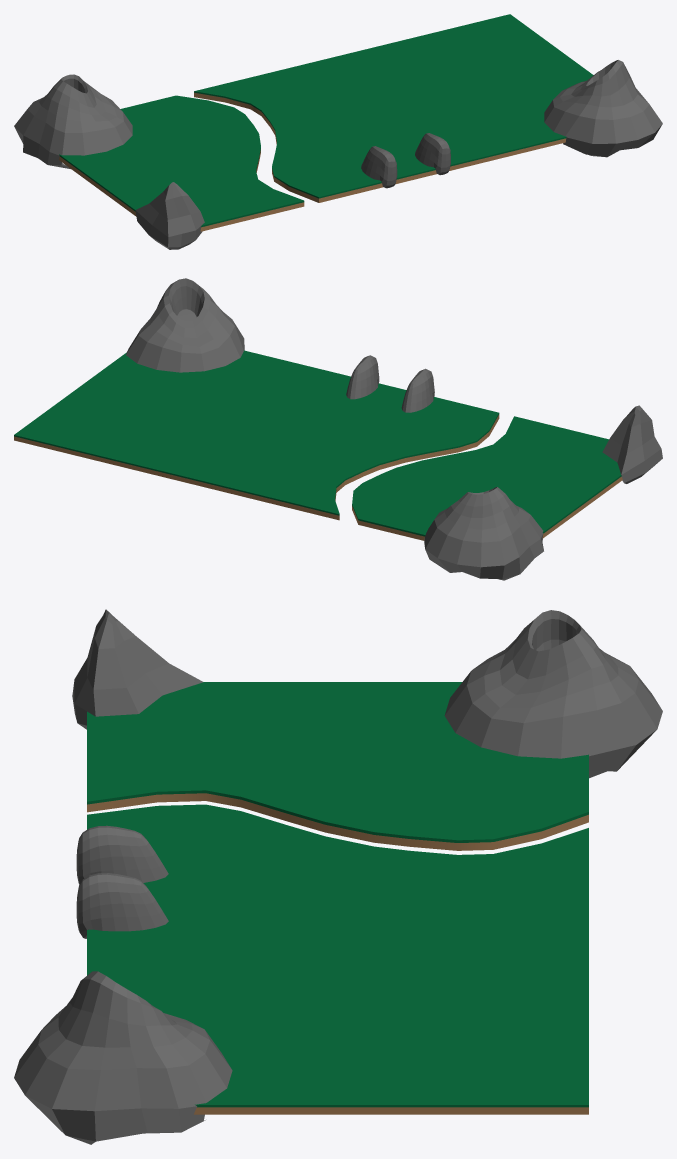
Rendered from New_Map.fbx.
3 views of the same model, one above another, from view 1: azimuth 30°, elevation 25°; view 2: azimuth 150°, elevation 25°; view 3: azimuth 270°, elevation 25° (orthographic). The views are drawn at different scales.
Parts seen in each view (by area): view 1: Table.001; view 2: Table.001; view 3: Table.001.
Part boxes in pixels (bbox=[...]): Table.001: bbox=[14, 14, 662, 249]; Table.001: bbox=[14, 278, 662, 580]; Table.001: bbox=[14, 609, 662, 1144].
Size of the model in its own units: 3691 by 610 by 2331.
